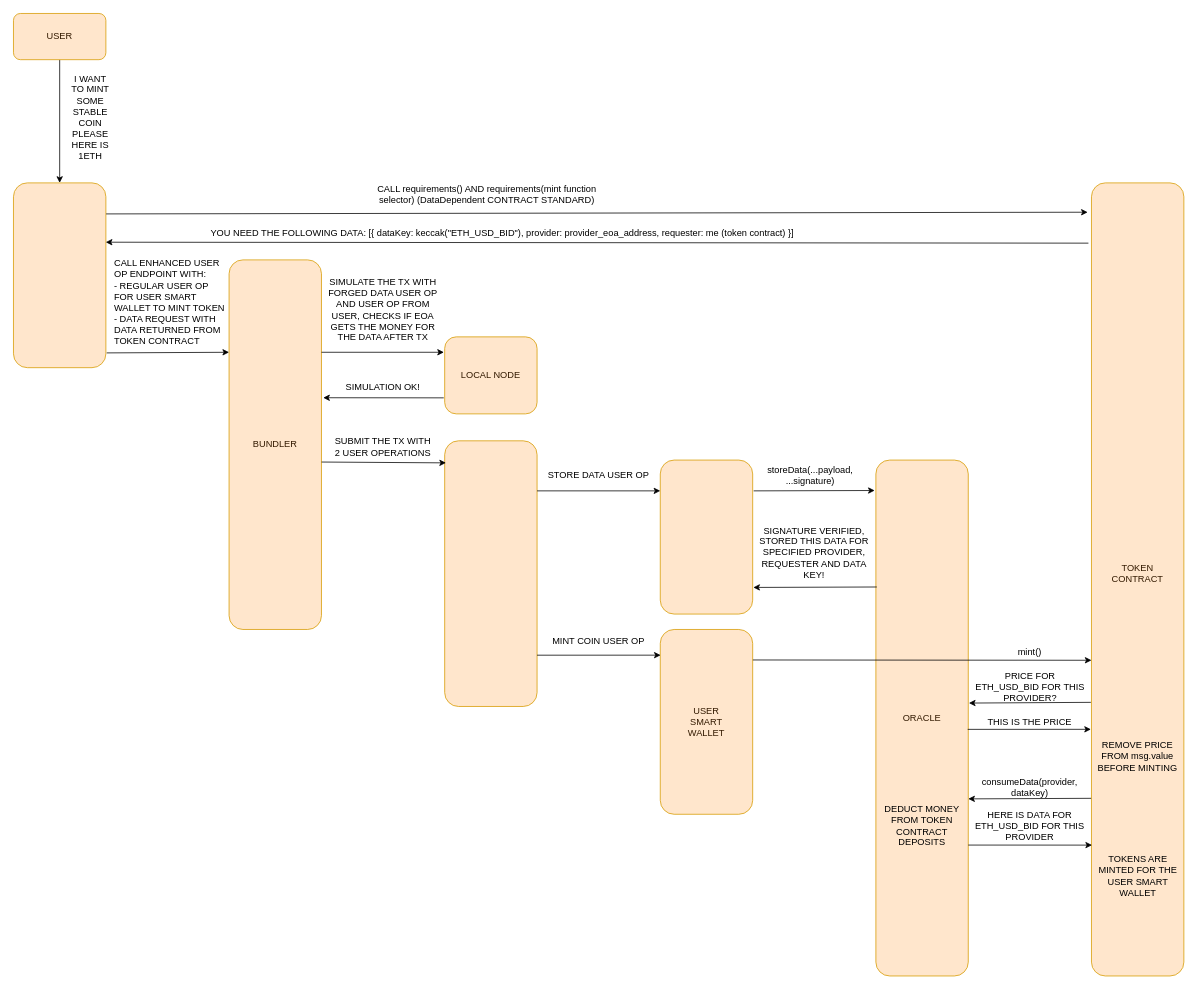
Image size: 1197x989. Some labels were removed from this diagram. The box of each missing label's shape, as (x1, y1, x2, y2) in pixels:
CLIENT: (13, 182, 106, 368)
ERC 4337 ENTRYPOINT: (444, 440, 537, 706)
PROVIDER SMART WALLET: (660, 459, 753, 614)
